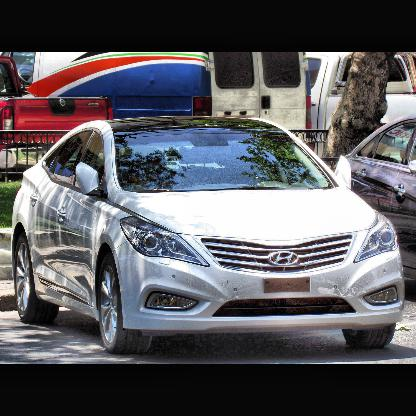Hyundai Azera Sedan 2012: (13, 119, 407, 361)
